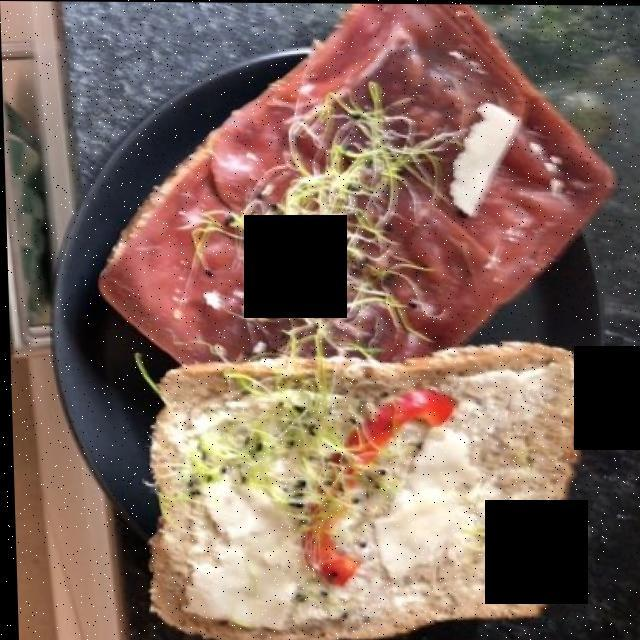bread: (128, 341, 591, 632)
butter: (196, 380, 522, 619)
cheese: (444, 107, 527, 228)
dried-meat: (117, 18, 597, 356)
sprouts: (236, 97, 427, 505)
